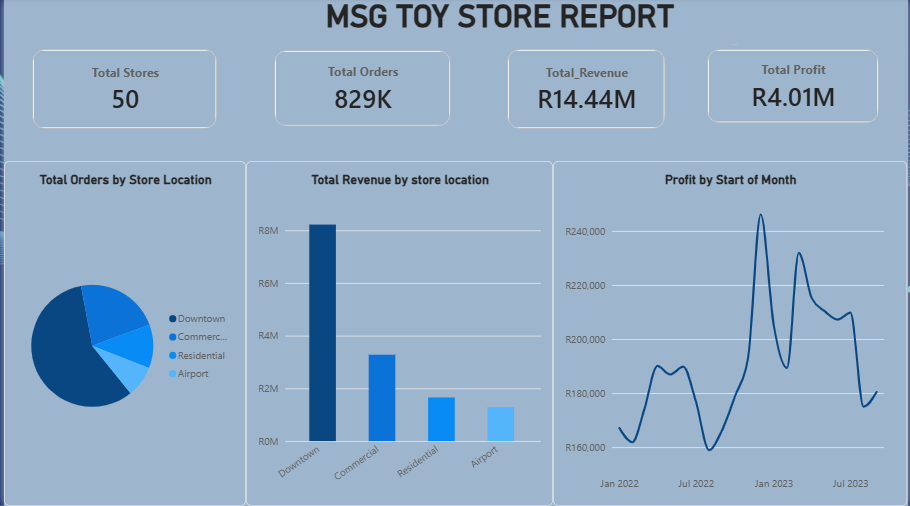

Layout of this report page (visuals, bound fields, positions):
{"tool":"powerbi","page":{"name":"Page 1","canvas":[1280,720],"ordinal":0},"visuals":[{"type":"cardVisual","fields":{"Data":["sales.Total_Revenue"]},"box":[673.2,52.4,304.7,153.1],"z":0},{"type":"cardVisual","fields":{"Data":["sales.Total Profit"]},"box":[956.7,52.4,323.1,146],"z":1000},{"type":"lineChart","title":"Profit by Start of Month","fields":{"Category":["calendar.Start of Month Hierarchy.Start of Month","calendar.Start of Month Hierarchy.Start of Week","calendar.Start of Month Hierarchy.Date"],"Y":["Sum(sales.Profit)"]},"box":[778.3,231,501.7,489],"z":2000},{"type":"pieChart","title":"Total Orders by Store Location","fields":{"Category":["stores.Store_Location"],"Y":["sales.Total Orders"]},"box":[0,231,343,489],"z":3000},{"type":"columnChart","title":"Total Revenue by store location","fields":{"Y":["Sum(sales.Revenue)"],"Category":["stores.Store_Location"],"Series":["stores.Store_Location"]},"box":[343,231,435.1,489],"z":4000},{"type":"cardVisual","fields":{"Data":["sales.Total Orders"]},"box":[343,53.9,330.2,148.8],"z":5000},{"type":"cardVisual","fields":{"Data":["stores.Total Stores"]},"box":[0,52.4,343,153.1],"z":6000},{"type":"textbox","title":"MSG TOY STORE REPORT","box":[365.7,0,674.6,66.6],"z":7000}]}

Visuals, with their boxes in screenshot pixels (x1, y1, x2, y2), scaled from the page's 1280x720 canvas onto the 910x506 screenshot:
cardVisual - sales.Total_Revenue: region(479, 37, 695, 144)
cardVisual - sales.Total Profit: region(680, 37, 909, 139)
"Profit by Start of Month" lineChart: region(553, 162, 909, 505)
"Total Orders by Store Location" pieChart: region(0, 162, 244, 505)
"Total Revenue by store location" columnChart: region(244, 162, 553, 505)
cardVisual - sales.Total Orders: region(244, 38, 479, 142)
cardVisual - stores.Total Stores: region(0, 37, 244, 144)
"MSG TOY STORE REPORT" textbox: region(260, 0, 740, 47)
